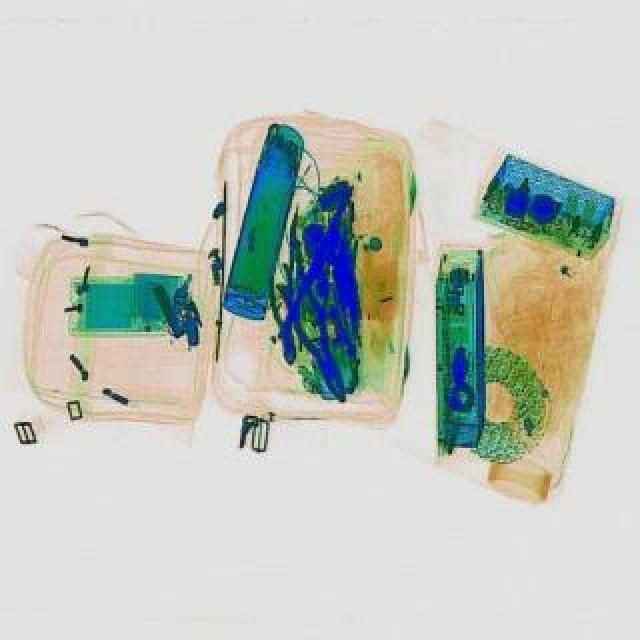wrench: (268, 264, 362, 408), (264, 260, 300, 366)
